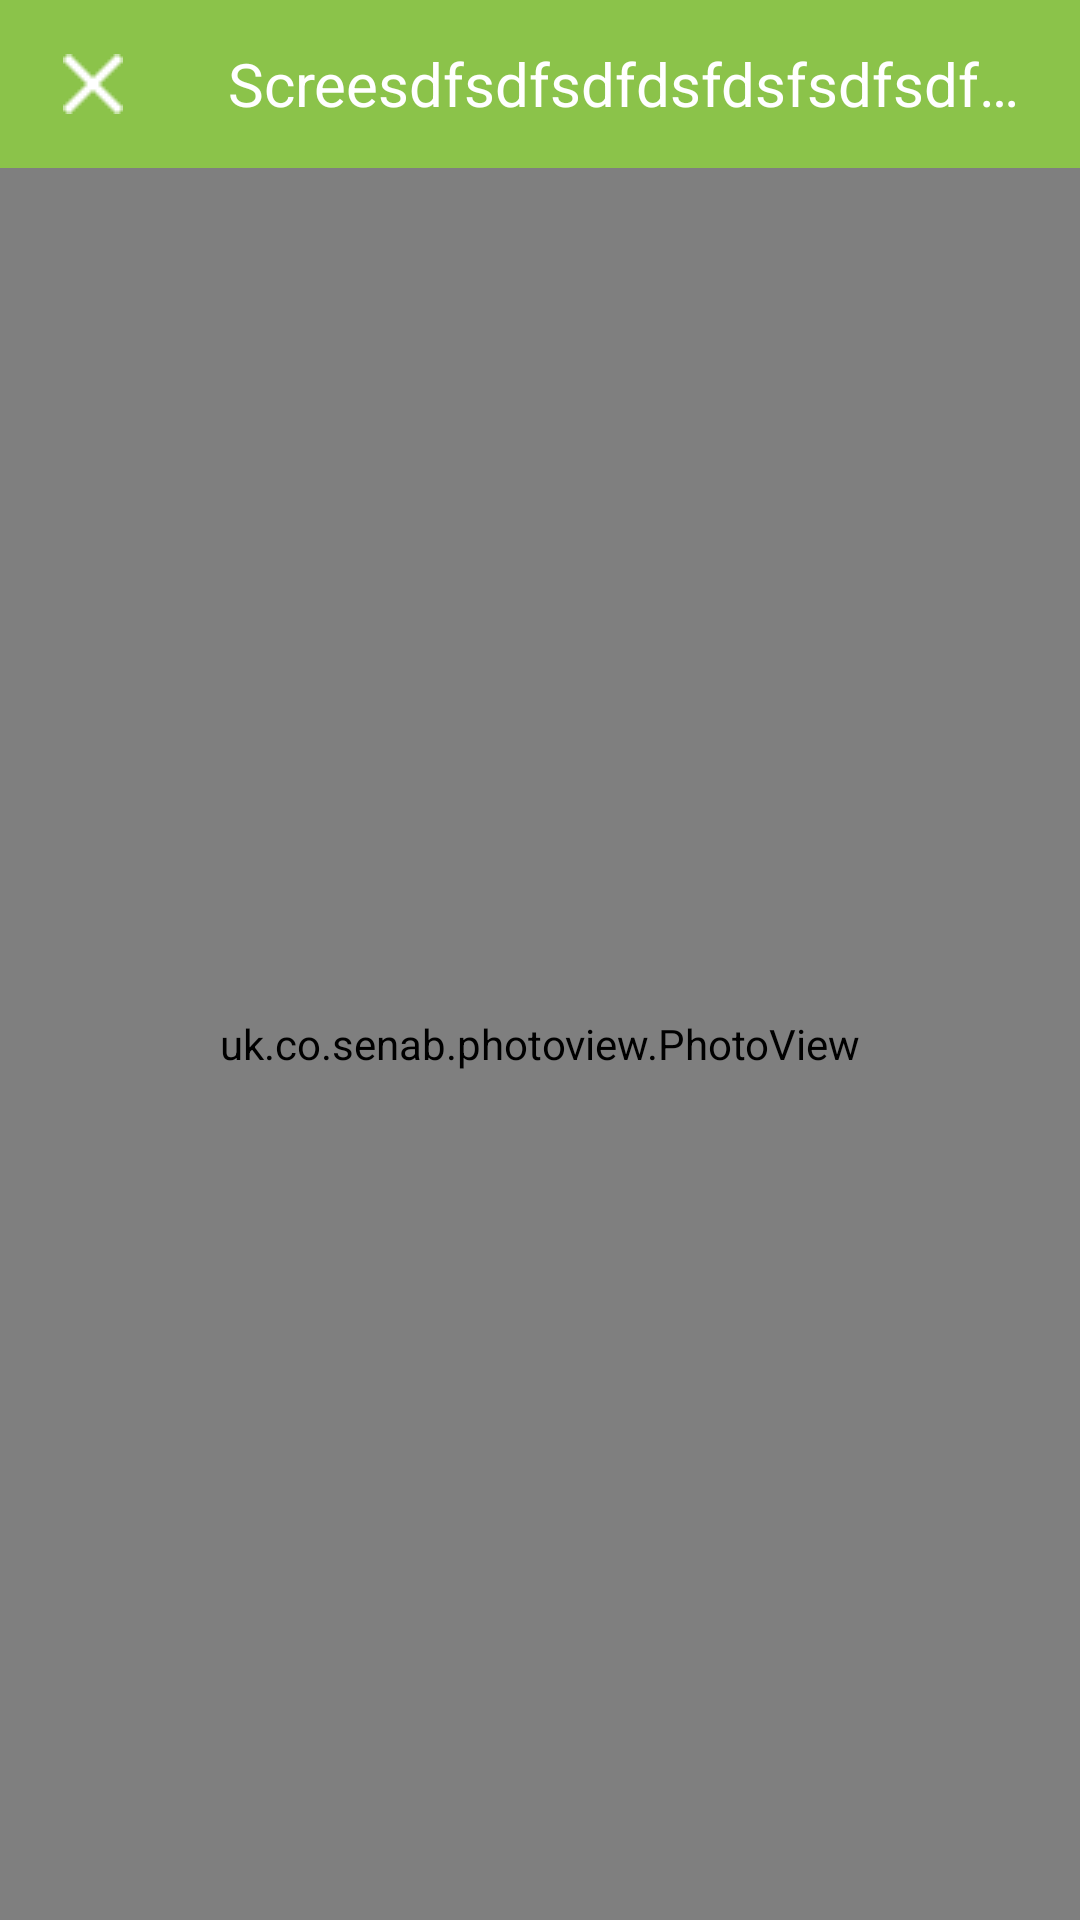

Named icons in this screenshot (1080px×1920px) and their centers, point (x, y):
close: point (93, 84)
